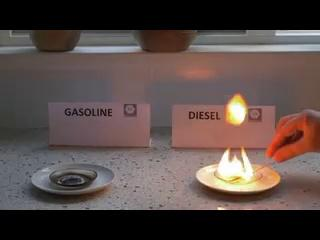Fire: (215, 90, 261, 183)
